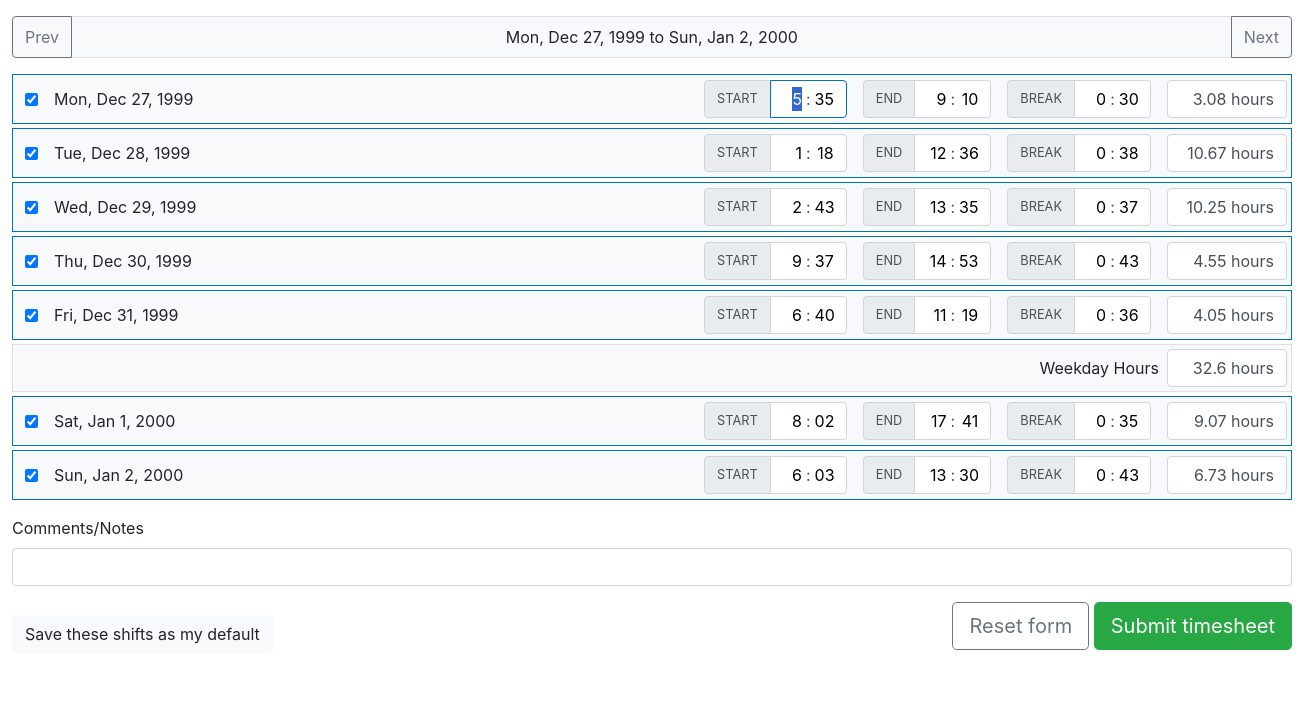
Test case: toggles shift time input when shift checkbox is clicked
Expected: the element labelled "Start :" is shown, [704,80,847,118]
What coordinates should you click on to do the following:
click the checkbox with test id "shift-0-toggle"
I would click on:
 (32, 99)
Its box is [25,92,38,106].
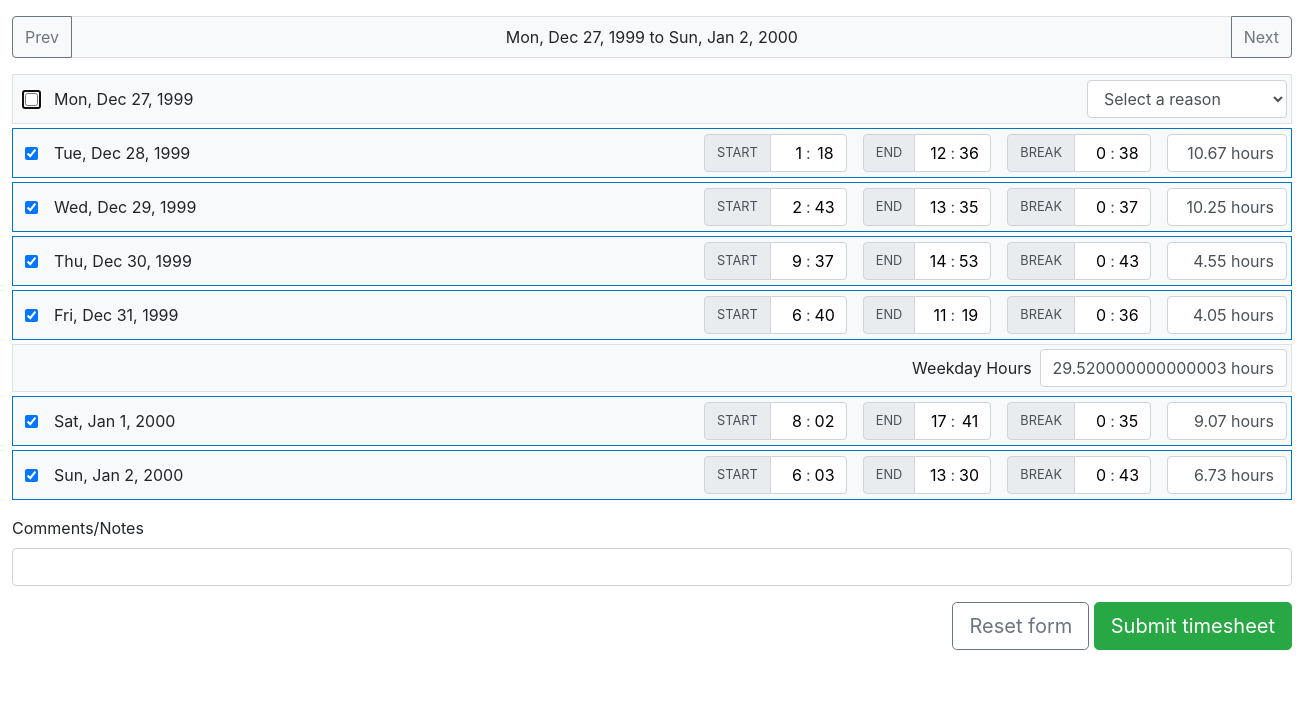
Result: the dropdown named "reason" is shown at [1087,80,1287,118]
What coordinates should you click on to do the following:
click the checkbox with test id "shift-0-toggle"
I would click on:
 (32, 99)
Its box is [25,92,38,106].
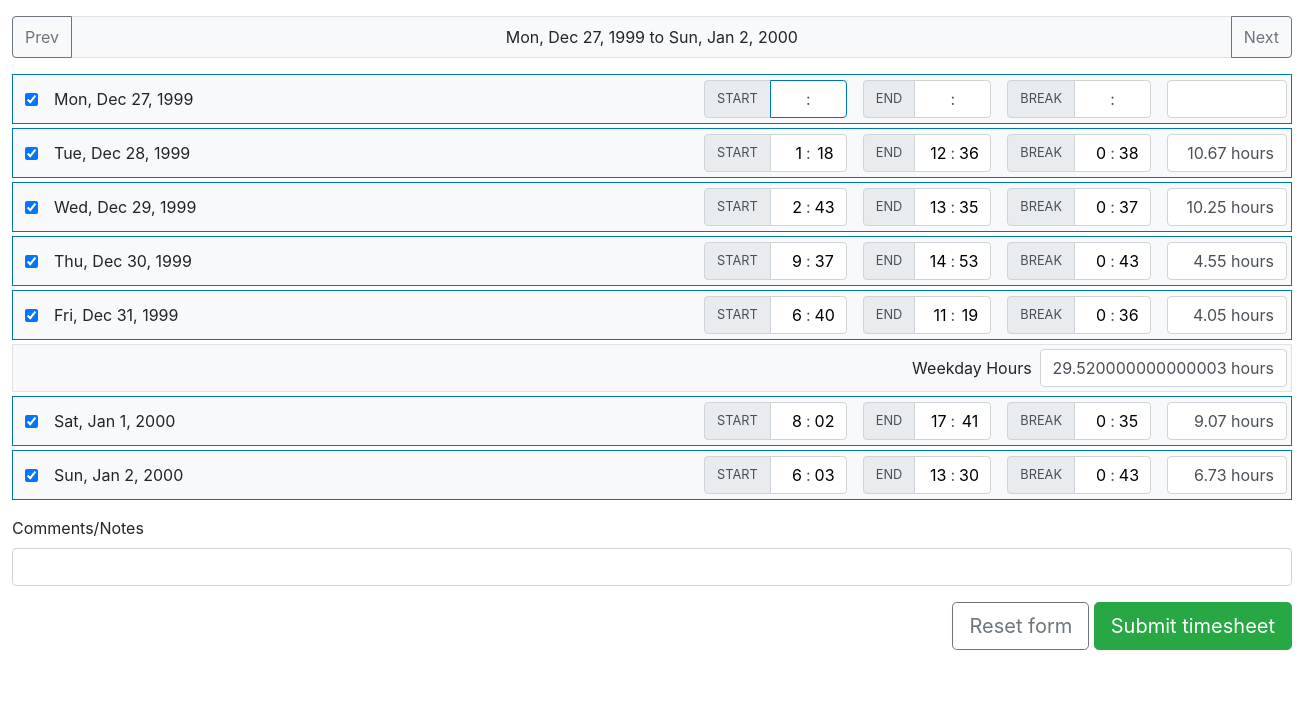
Expected: the 1st field named "hour" is empty, [783,87,802,111]
Result: the element labelled "Start :" is shown at [704,80,847,118]
